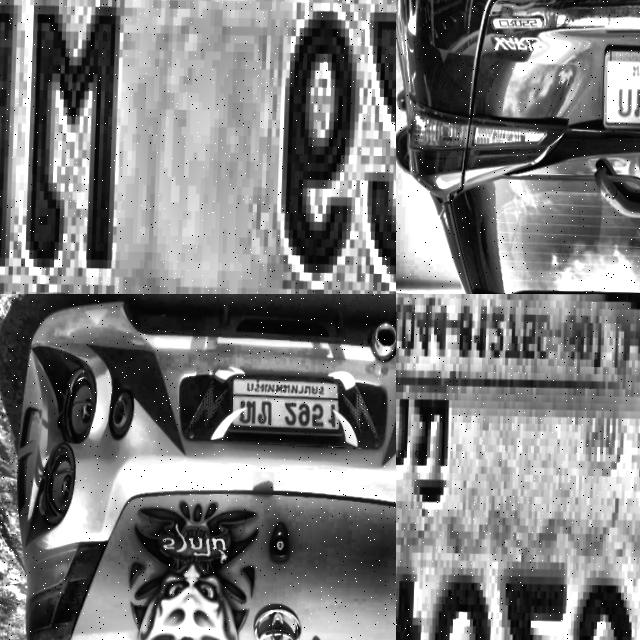license-plate: (0, 0, 396, 294), (396, 294, 640, 640), (226, 369, 346, 436), (599, 40, 640, 135)
